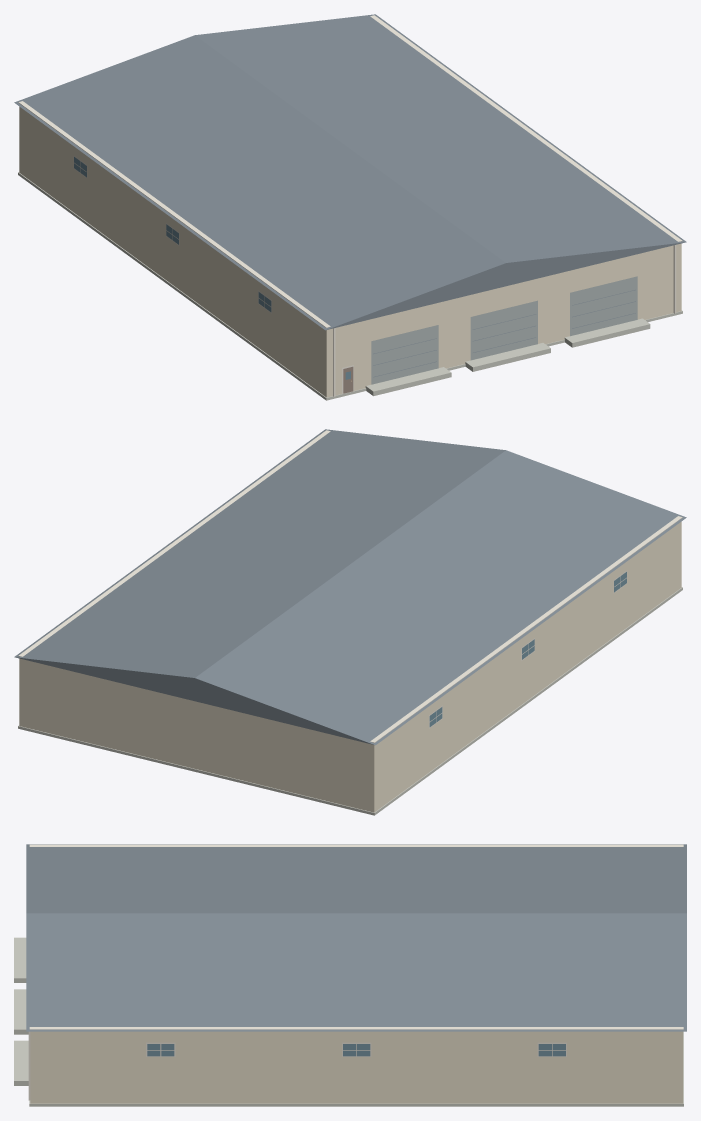
The model's file is warehouse-gabled.glb.
3 renders of one model, top to bottom at view 1: azimuth 30°, elevation 25°; view 2: azimuth 150°, elevation 25°; view 3: azimuth 270°, elevation 25°, orthographic. The views are drawn at different scales.
Visible parts, largest first — view 1: warehouse-gabled; view 2: warehouse-gabled; view 3: warehouse-gabled.
Part boxes in pixels (x1,y1,x2,y2): warehouse-gabled: (14,14,686,400); warehouse-gabled: (14,429,686,815); warehouse-gabled: (14,844,686,1106).
Size of the model in its own units: 32.6 by 8.2 by 49.5.
